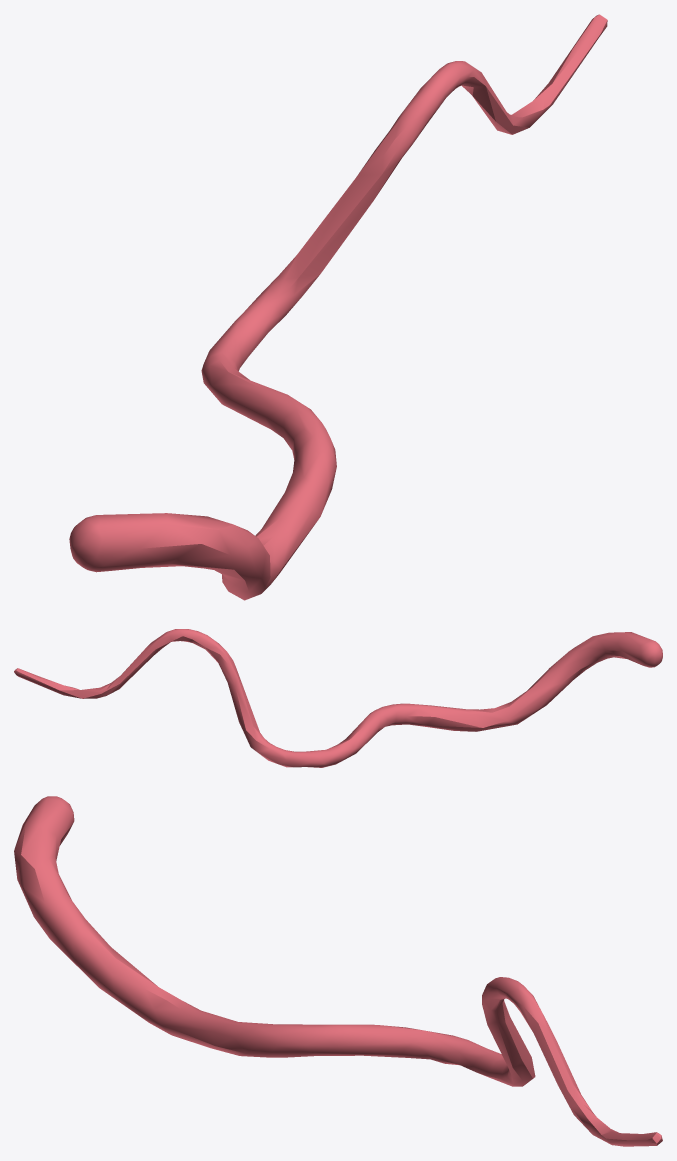
File: fma50544_fj1656m.glb
3 renders of one model, top to bottom at view 1: azimuth 30°, elevation 25°; view 2: azimuth 150°, elevation 25°; view 3: azimuth 270°, elevation 25°, orthographic. The views are drawn at different scales.
Parts seen in each view (by area): view 1: FMA50544_FJ1656M; view 2: FMA50544_FJ1656M; view 3: FMA50544_FJ1656M.
Part boxes in pixels (left/top/right/bottom): FMA50544_FJ1656M: left=69, top=14, right=607, bottom=600; FMA50544_FJ1656M: left=14, top=629, right=662, bottom=767; FMA50544_FJ1656M: left=14, top=796, right=662, bottom=1146.
Size of the model in its own units: 0.0363 by 0.00977 by 0.0281.
